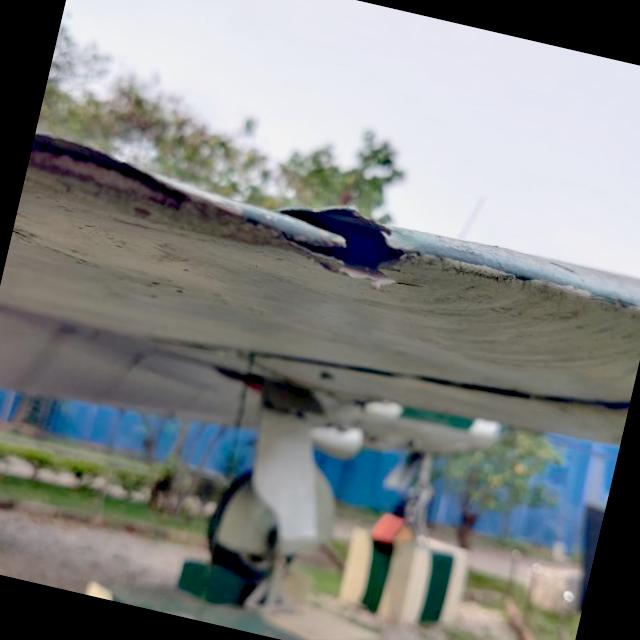crack: (249, 183, 441, 308)
